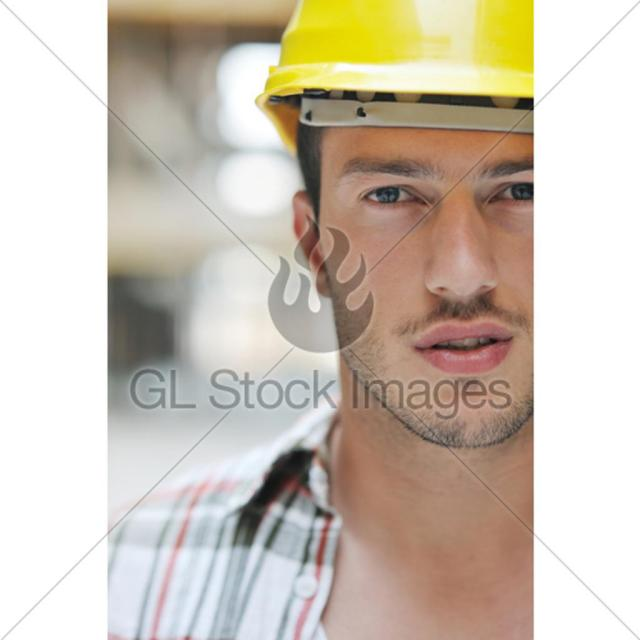nomask: (323, 81, 576, 450)
